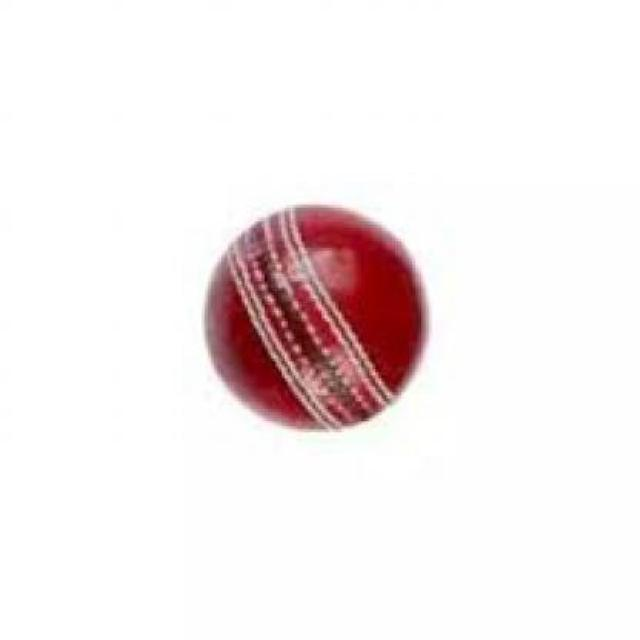ball: (183, 186, 449, 439)
